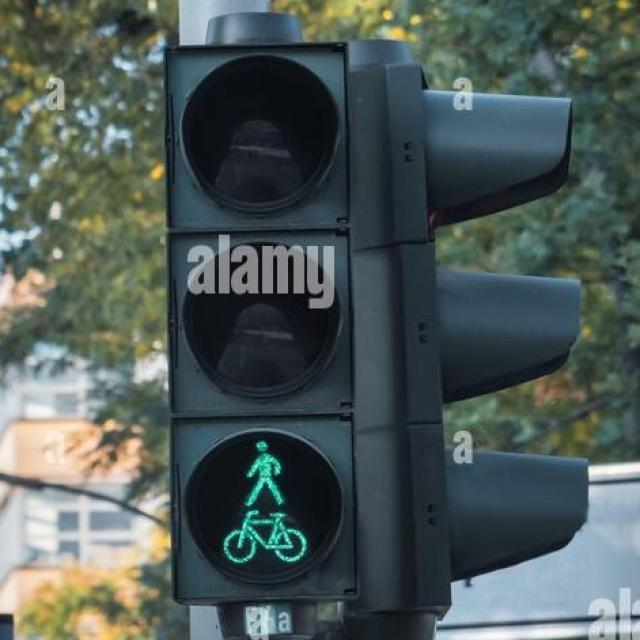geen-crossing: (232, 427, 291, 507)
